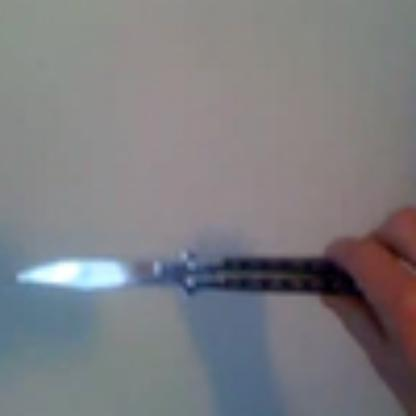knives: (0, 216, 374, 358)
